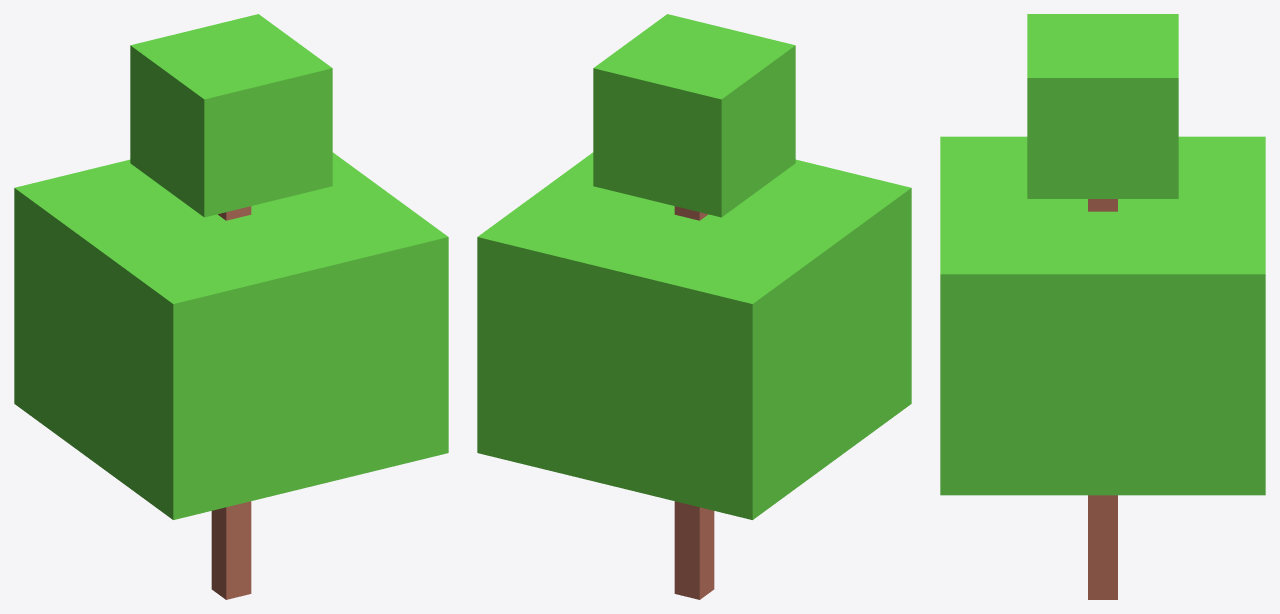
Rendered from bush 2.fbx.
The picture shows the model from 3 angles, left to right: view 1: azimuth 30°, elevation 25°; view 2: azimuth 150°, elevation 25°; view 3: azimuth 270°, elevation 25°; orthographic projection. The views are drawn at different scales.
Visible parts, largest first — view 1: Plane; view 2: Plane; view 3: Plane.
Boxes of the visible parts, bbox=[...] form: Plane: bbox=[14, 14, 448, 599]; Plane: bbox=[477, 14, 911, 599]; Plane: bbox=[940, 14, 1265, 599].
Bounding box in the file's own units: 130 × 241 × 130.
